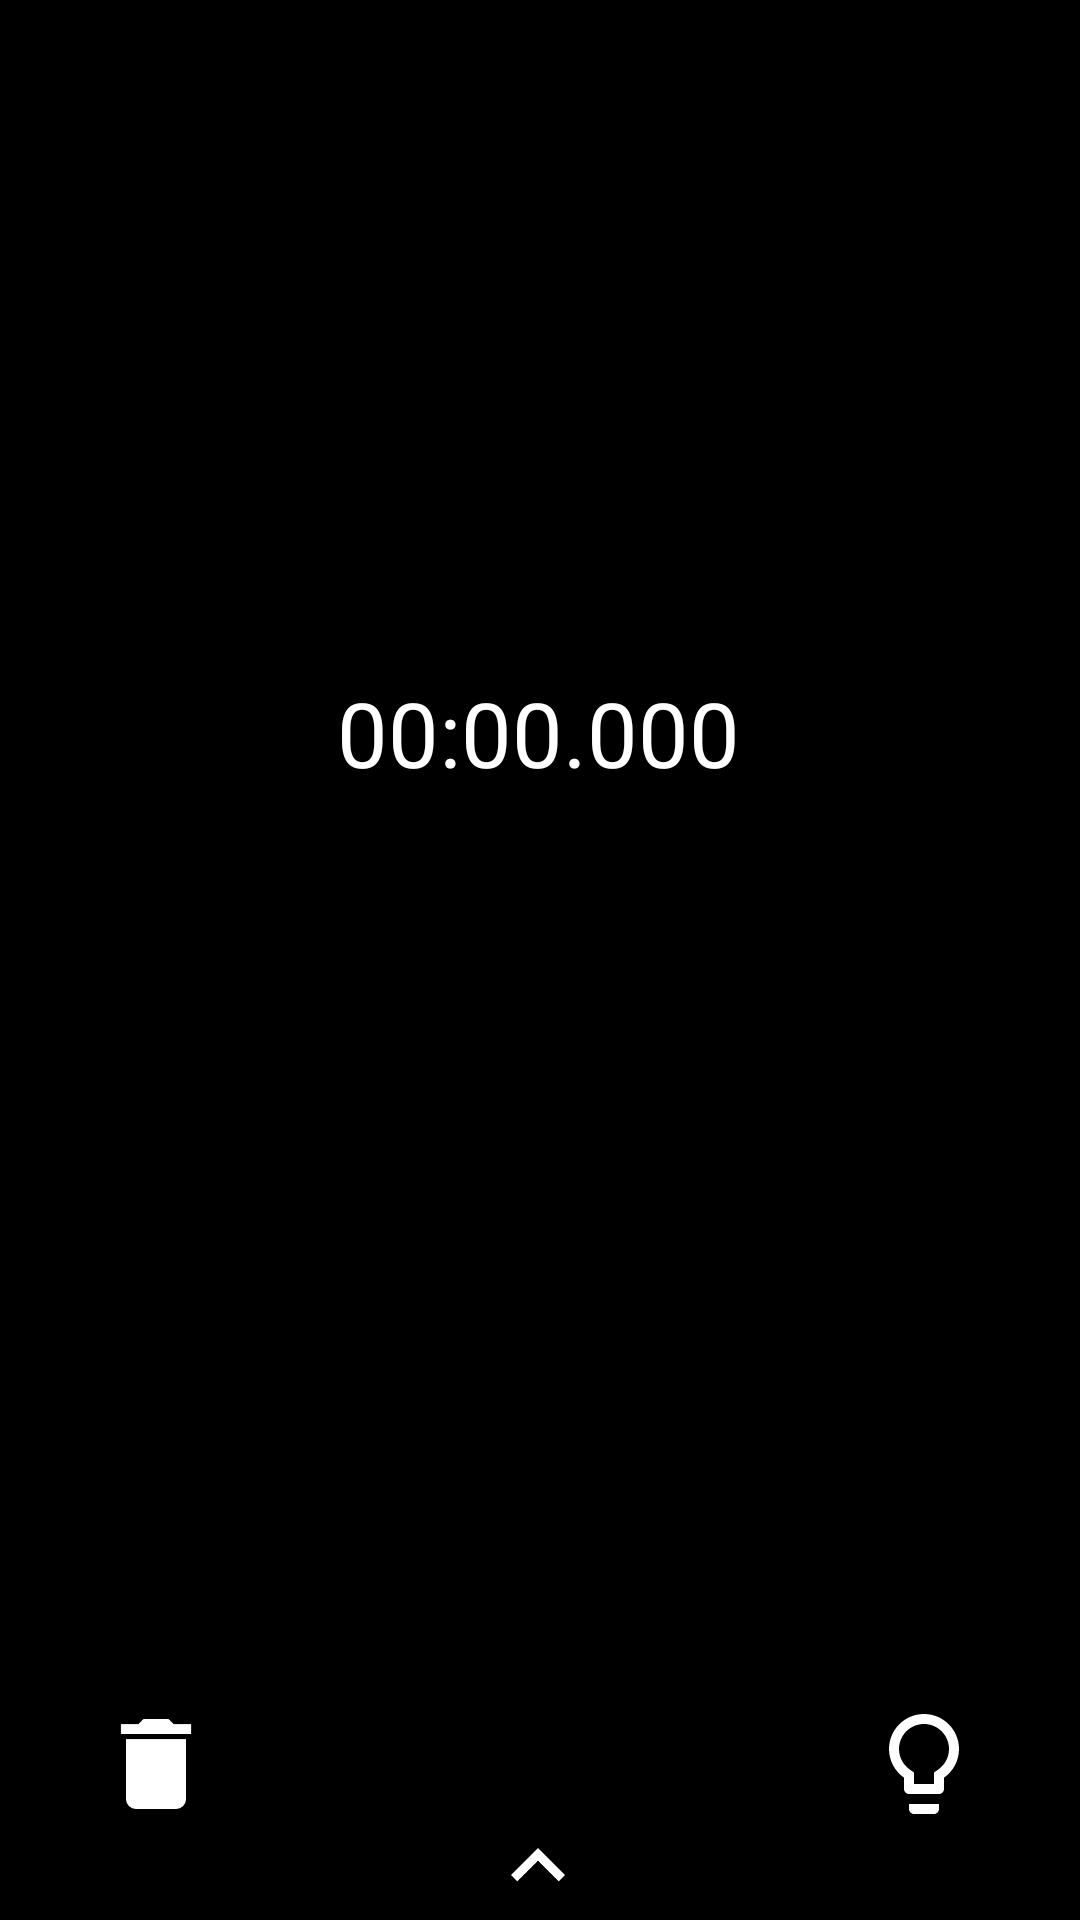

Locate icon controls on the screen. Image size 1080px x 1920px, boxes as box(x1, y1, x2, y2).
delete: box(120, 1719, 192, 1809)
keyboard arrow up: box(511, 1848, 565, 1882)
lightbulb: box(889, 1714, 959, 1814)
